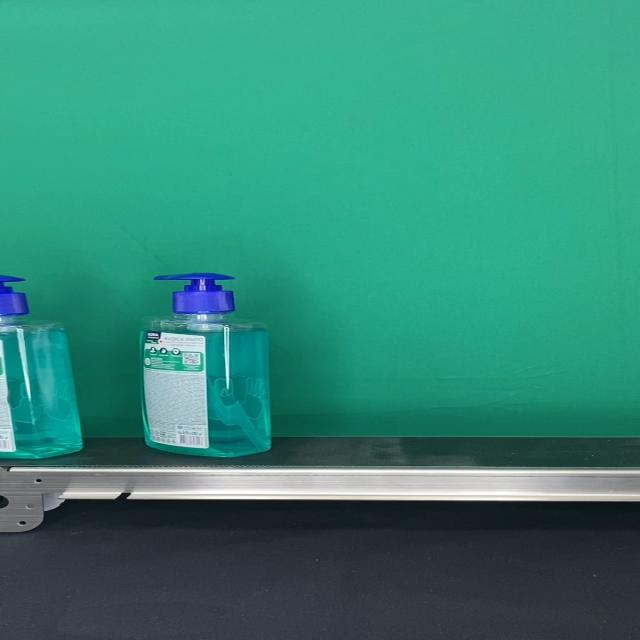Bottle: (138, 273, 272, 458)
Cap: (153, 273, 236, 315)
